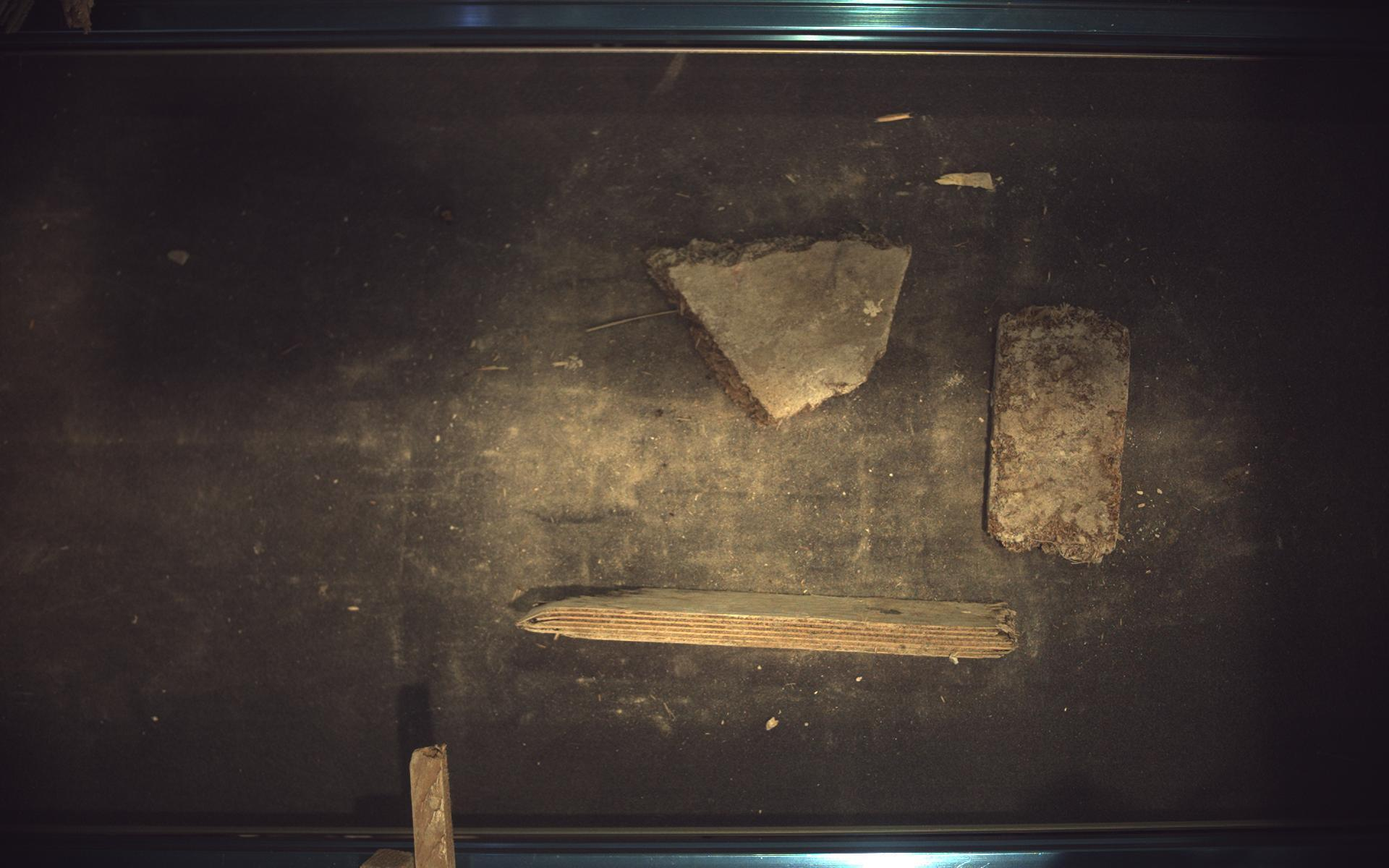wood: (647, 235, 913, 424), (989, 305, 1133, 563), (518, 590, 1021, 659), (409, 746, 456, 868)
